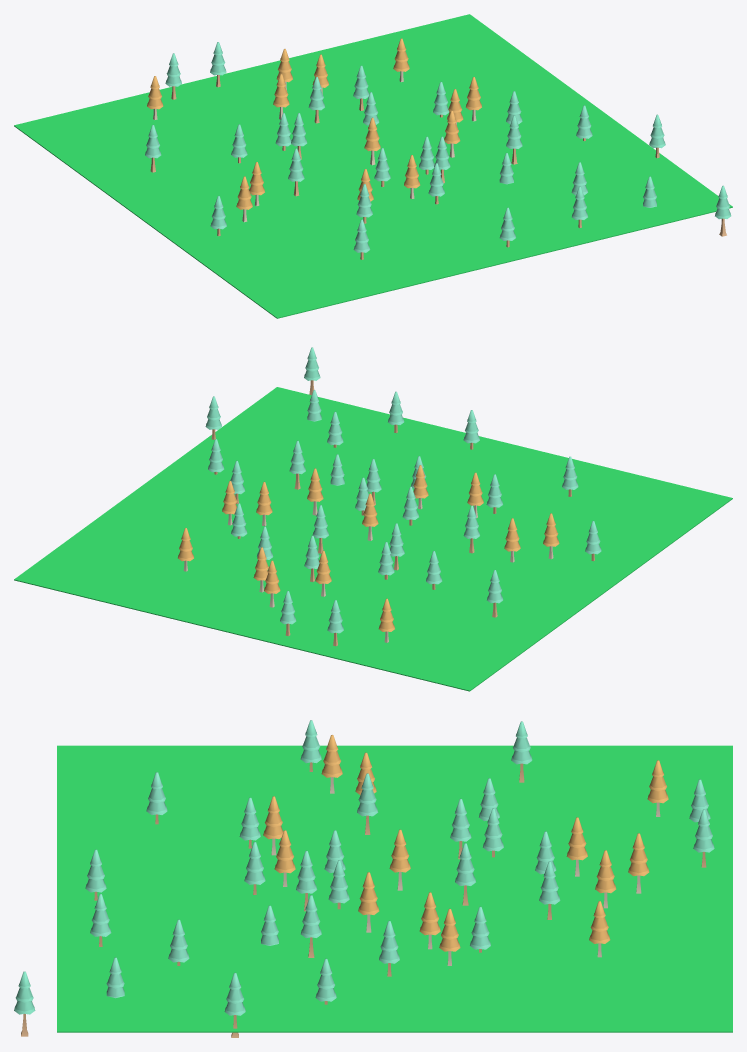
Rendered from mapForrestGun.glb.
3 renders of one model, top to bottom at view 1: azimuth 30°, elevation 25°; view 2: azimuth 150°, elevation 25°; view 3: azimuth 270°, elevation 25°, orthographic. The views are drawn at different scales.
Visible parts, largest first — view 1: Cube; view 2: Cube; view 3: Cube, treeLarge.017, treeLarge.024, treeLarge.026, treeLarge.001, treeFallLarge.001, treeLarge.006, treeLarge.021, treeFallLarge.003, treeFallLarge.005, treeFallLarge.007, treeLarge.023 (+24 smaller).
Boxes of the visible parts, x1,y1,x2,y2 form: Cube: (14, 14, 732, 318); Cube: (14, 387, 732, 691); Cube: (57, 745, 732, 1032); treeLarge.017: (14, 971, 35, 1036); treeLarge.024: (224, 972, 245, 1037); treeLarge.026: (301, 895, 321, 957); treeLarge.001: (455, 843, 475, 905); treeFallLarge.001: (389, 829, 410, 890); treeLarge.006: (511, 721, 532, 782); treeLarge.021: (357, 773, 378, 834); treeFallLarge.003: (358, 872, 379, 932); treeFallLarge.005: (628, 833, 649, 893); treeFallLarge.007: (595, 850, 616, 908); treeLarge.023: (539, 861, 560, 919).
Bounding box in the file's own units: 50.16 × 7.19 × 53.18.
